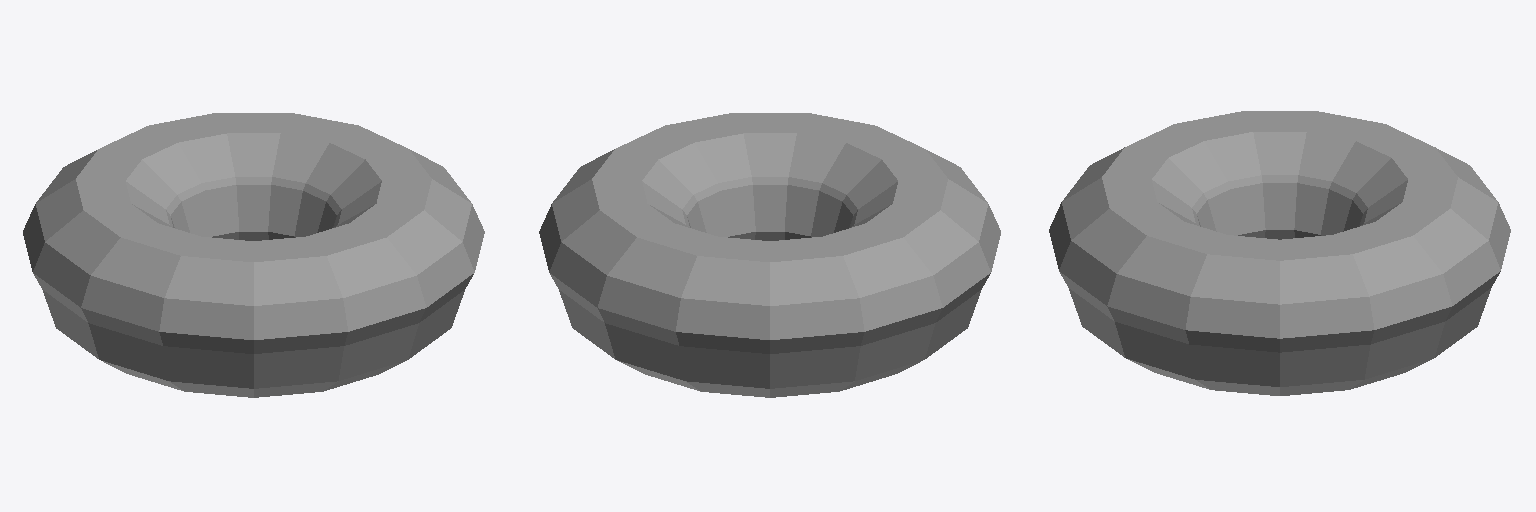
The model's file is Donut2.obj.
3 renders of one model, left to right at view 1: azimuth 30°, elevation 25°; view 2: azimuth 150°, elevation 25°; view 3: azimuth 270°, elevation 25°, orthographic.
Parts seen in each view (by area): view 1: Donut2_Torus; view 2: Donut2_Torus; view 3: Donut2_Torus.
Boxes of the visible parts, <box> form: Donut2_Torus: <box>23,113,484,397</box>; Donut2_Torus: <box>539,113,1000,397</box>; Donut2_Torus: <box>1049,111,1510,395</box>.
Bounding box in the file's own units: 0.5992 × 0.2007 × 0.6025.